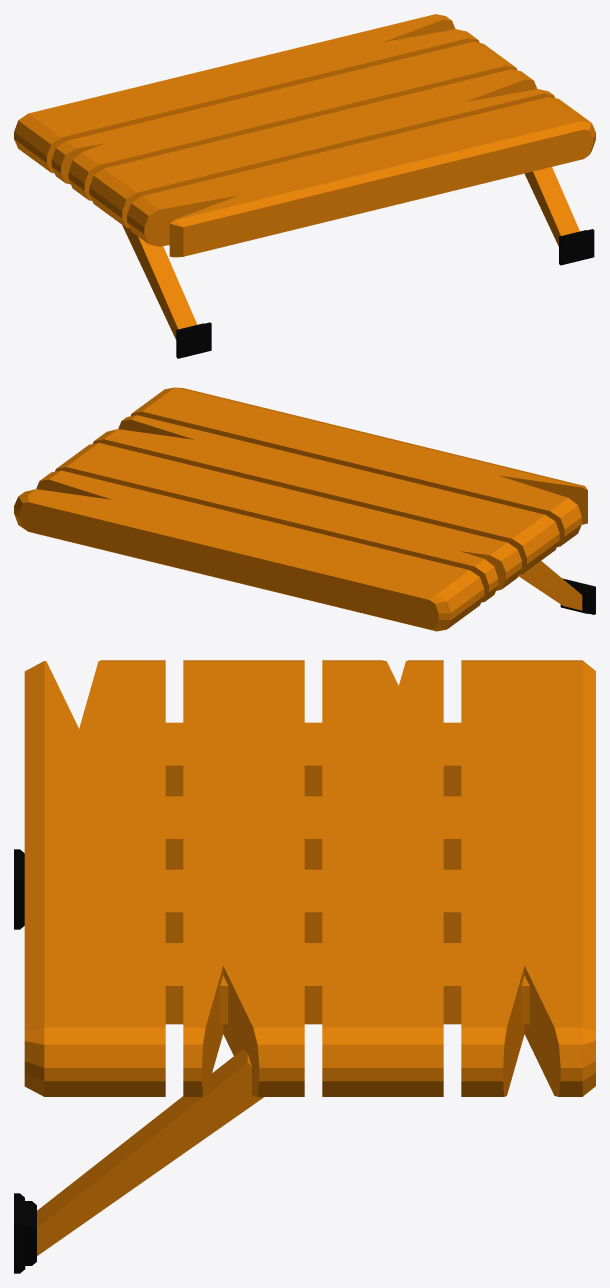
Rendered from shelf.fbx.
3 renders of one model, top to bottom at view 1: azimuth 30°, elevation 25°; view 2: azimuth 150°, elevation 25°; view 3: azimuth 270°, elevation 25°, orthographic. The views are drawn at different scales.
Parts seen in each view (by area): view 1: shelf; view 2: shelf; view 3: shelf.
Part boxes in pixels (box(x1,y1,x2,y2)): shelf: box(14, 14, 595, 358); shelf: box(14, 387, 595, 631); shelf: box(14, 660, 595, 1273).
Size of the model in its own units: 64.5 by 18.58 by 40.48.
